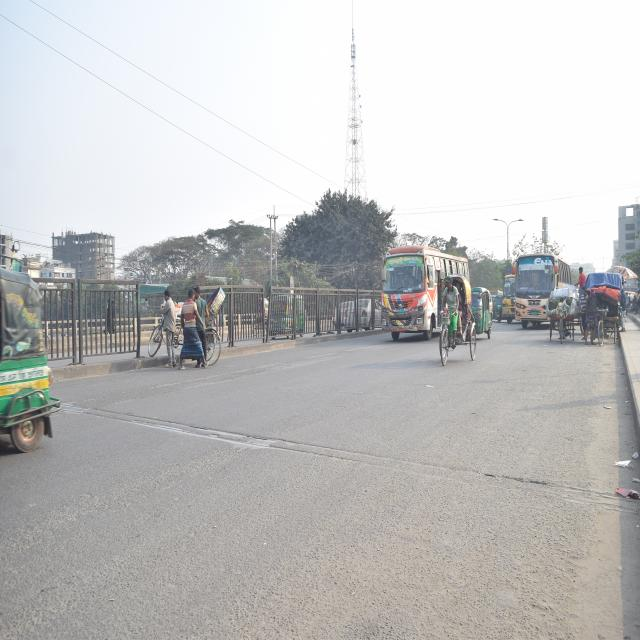bus: (381, 245, 471, 340), (154, 287, 216, 374), (515, 251, 574, 322), (500, 272, 518, 323)
